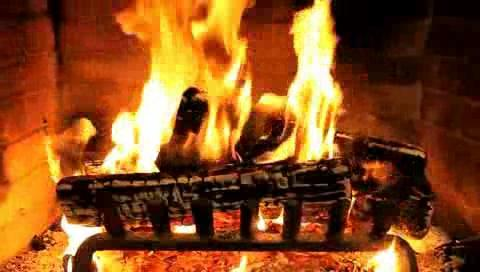fire: (110, 4, 340, 171)
